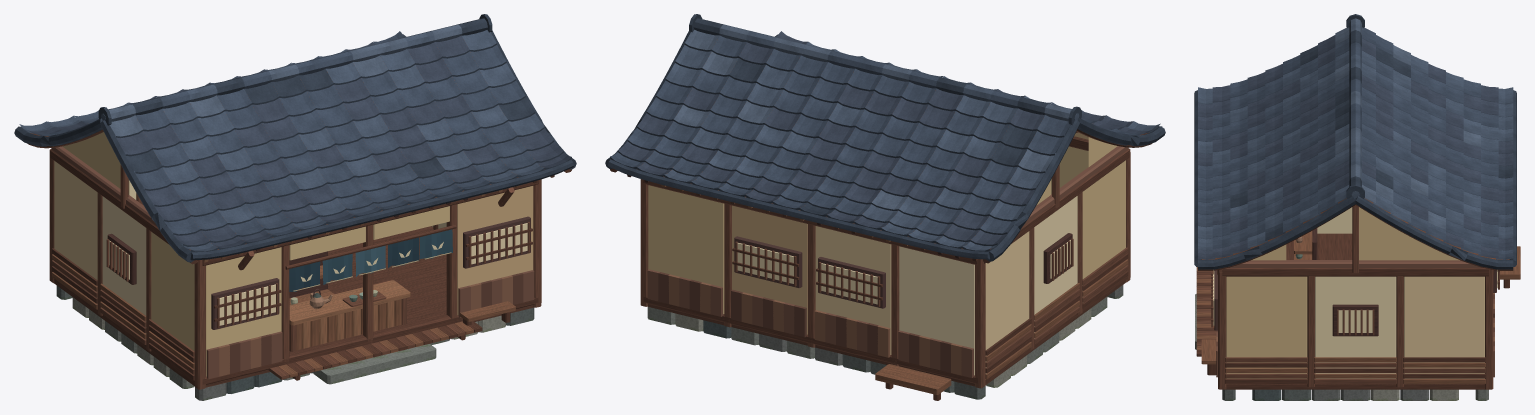
File: teahouse.glb
3 views of the same model, side by side, from view 1: azimuth 30°, elevation 25°; view 2: azimuth 150°, elevation 25°; view 3: azimuth 270°, elevation 25° (orthographic). The views are drawn at different scales.
Parts seen in each view (by area): view 1: Fired roof tiles and ridge caps.002, Plaster, infill and lattice.002, Timber frame, sill, tongue-and-groove soffit and rafters.002, Tongue-and-groove veranda, serving counter, bench and tea sh, Cut stone foundations and steps.002, Indented indigo noren with sewn tea-leaf emblems; view 2: Fired roof tiles and ridge caps.002, Plaster, infill and lattice.002, Timber frame, sill, tongue-and-groove soffit and rafters.002, Cut stone foundations and steps.002; view 3: Fired roof tiles and ridge caps.002, Plaster, infill and lattice.002, Timber frame, sill, tongue-and-groove soffit and rafters.002, Cut stone foundations and steps.002, Tongue-and-groove veranda, serving counter, bench and tea sh.
Boxes of the visible parts, x1,y1,x2,y2 form: Fired roof tiles and ridge caps.002: (14,14,576,262); Plaster, infill and lattice.002: (51,132,534,379); Timber frame, sill, tongue-and-groove soffit and rafters.002: (27,47,571,389); Tongue-and-groove veranda, serving counter, bench and tea sh: (268,225,515,380); Cut stone foundations and steps.002: (56,285,534,400); Indented indigo noren with sewn tea-leaf emblems: (289,229,452,291); Fired roof tiles and ridge caps.002: (605,14,1165,261); Plaster, infill and lattice.002: (647,132,1128,377); Timber frame, sill, tongue-and-groove soffit and rafters.002: (610,39,1152,400); Cut stone foundations and steps.002: (647,285,1123,399); Fired roof tiles and ridge caps.002: (1194,14,1516,269); Plaster, infill and lattice.002: (1213,207,1497,378); Timber frame, sill, tongue-and-groove soffit and rafters.002: (1198,198,1520,389); Cut stone foundations and steps.002: (1195,294,1488,400); Tongue-and-groove veranda, serving counter, bench and tea sh: (1196,228,1317,375).
Size of the model in its own units: 9.31 by 5.61 by 7.35.
Materials: 6 (3 with a texture image).
